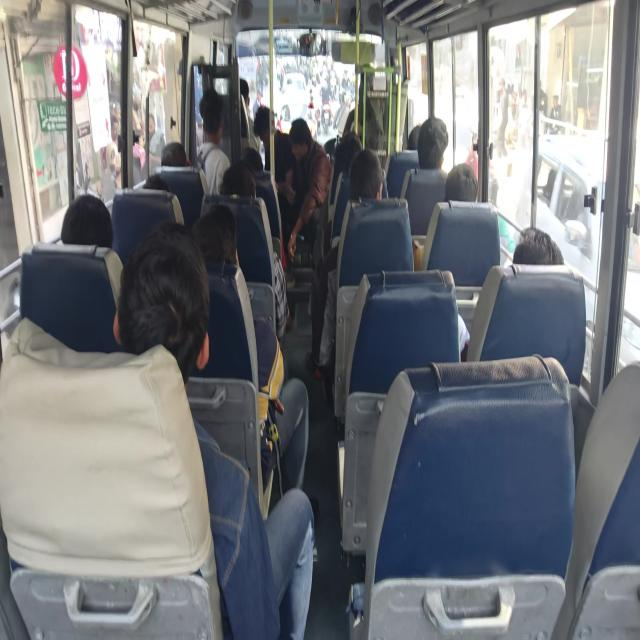person: (108, 218, 221, 369), (508, 221, 571, 285), (59, 190, 117, 252), (198, 194, 240, 278), (342, 144, 394, 208), (441, 158, 495, 219), (219, 156, 272, 211), (196, 81, 226, 151), (416, 116, 454, 168), (286, 110, 312, 170), (334, 127, 367, 171), (139, 165, 175, 203), (156, 136, 194, 171), (252, 102, 278, 146), (232, 59, 252, 116), (239, 142, 266, 180), (356, 61, 379, 93), (403, 121, 425, 150)
